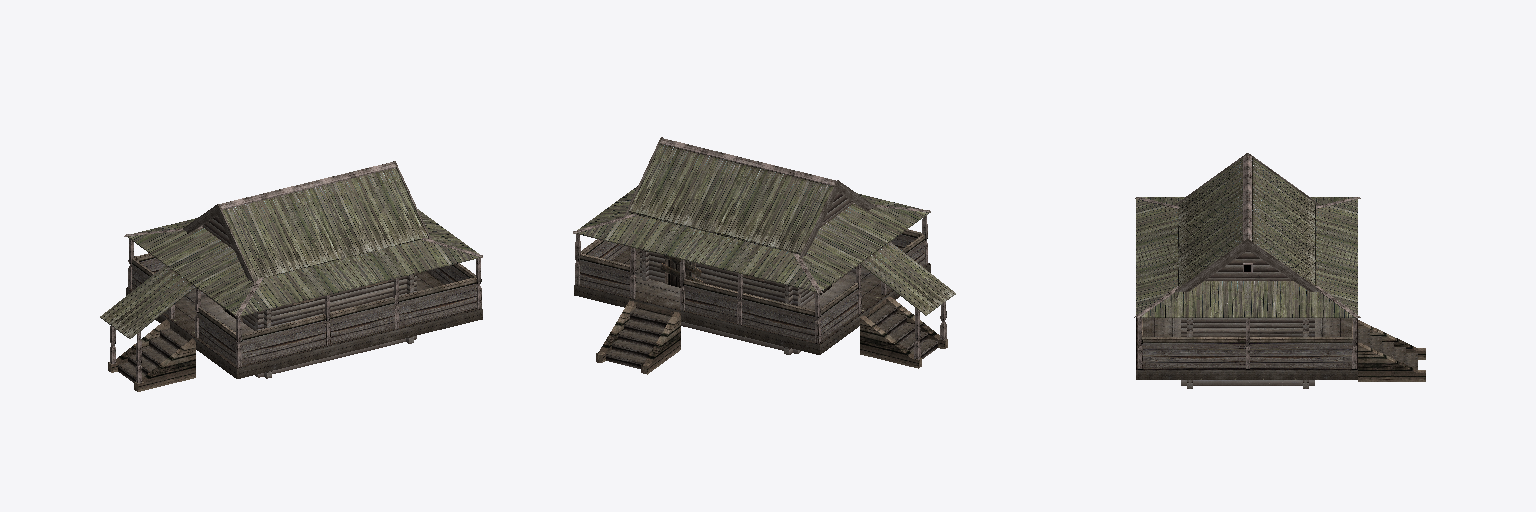
3 views of the same model, side by side, from view 1: azimuth 30°, elevation 25°; view 2: azimuth 150°, elevation 25°; view 3: azimuth 270°, elevation 25° (orthographic).
Visible parts, largest first — view 1: wooden_house_05_a; view 2: wooden_house_05_a; view 3: wooden_house_05_a.
Boxes of the visible parts, x1=… form: wooden_house_05_a: x1=100, y1=161, x2=482, y2=391; wooden_house_05_a: x1=573, y1=137, x2=955, y2=374; wooden_house_05_a: x1=1134, y1=153, x2=1425, y2=388.
Size of the model in its own units: 14.88 by 6.98 by 11.95.
1 materials, 1 textured.